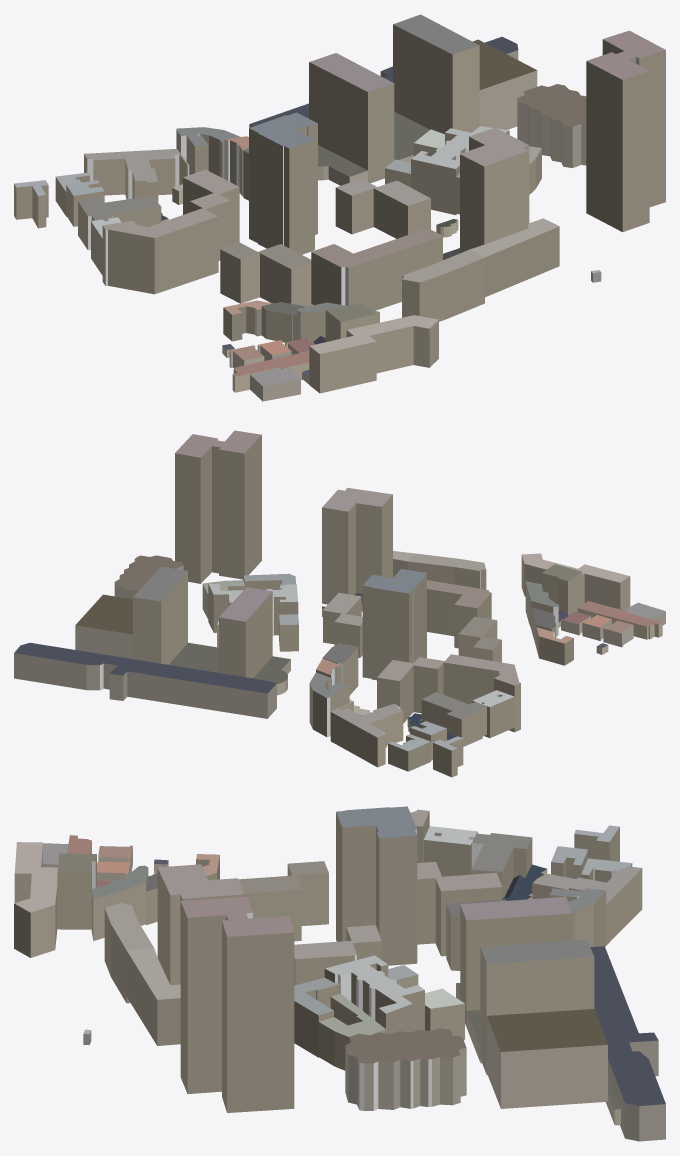
3 renders of one model, top to bottom at view 1: azimuth 30°, elevation 25°; view 2: azimuth 150°, elevation 25°; view 3: azimuth 270°, elevation 25°, orthographic. The views are drawn at different scales.
Parts seen in each view (by area): view 1: tuile; view 2: tuile; view 3: tuile.
Part boxes in pixels (x1,y1,x2,y2): tuile: (14, 14, 665, 401); tuile: (14, 430, 665, 777); tuile: (14, 806, 665, 1141).
Bounding box in the file's own units: 289 × 94.02 × 267.
